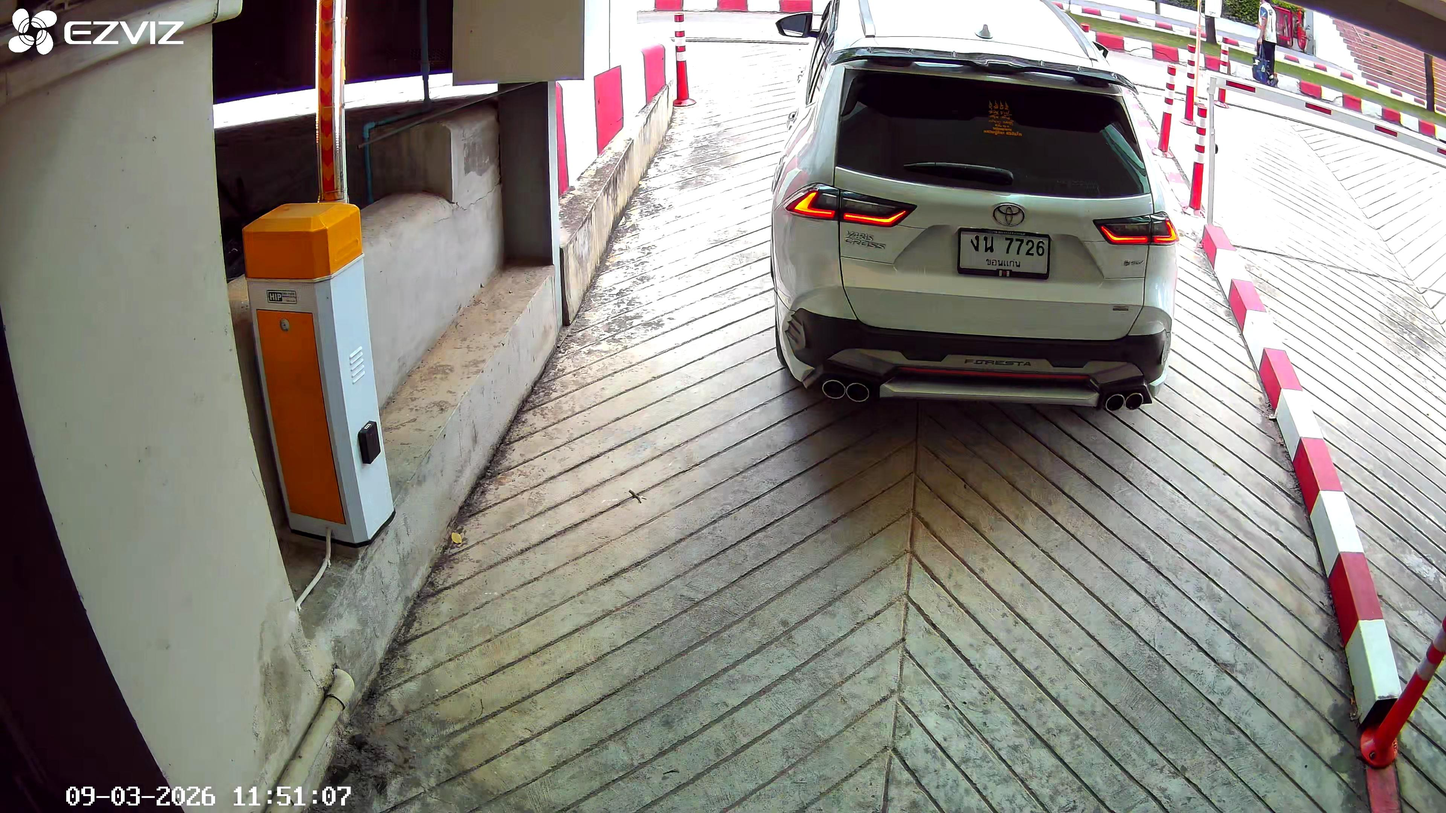car: (769, 19, 1180, 417)
license-plate: (956, 223, 1053, 277)
